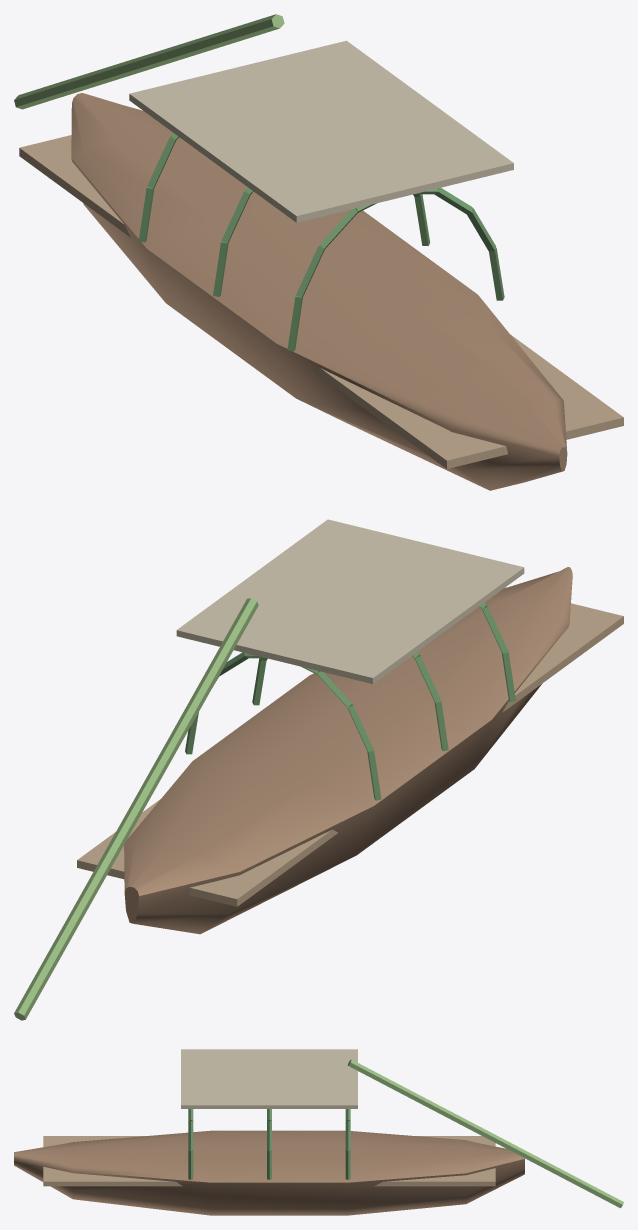
File: boat.glb
The picture shows the model from 3 angles, top to bottom: view 1: azimuth 30°, elevation 25°; view 2: azimuth 150°, elevation 25°; view 3: azimuth 270°, elevation 25°; orthographic projection. The views are drawn at different scales.
Parts seen in each view (by area): view 1: Boat; view 2: Boat; view 3: Boat.
Part boxes in pixels (x1,y1,x2,y2): Boat: (14, 14, 623, 490); Boat: (14, 519, 623, 1020); Boat: (14, 1049, 623, 1215).
Size of the model in its own units: 1.35 by 1.76 by 6.21.
